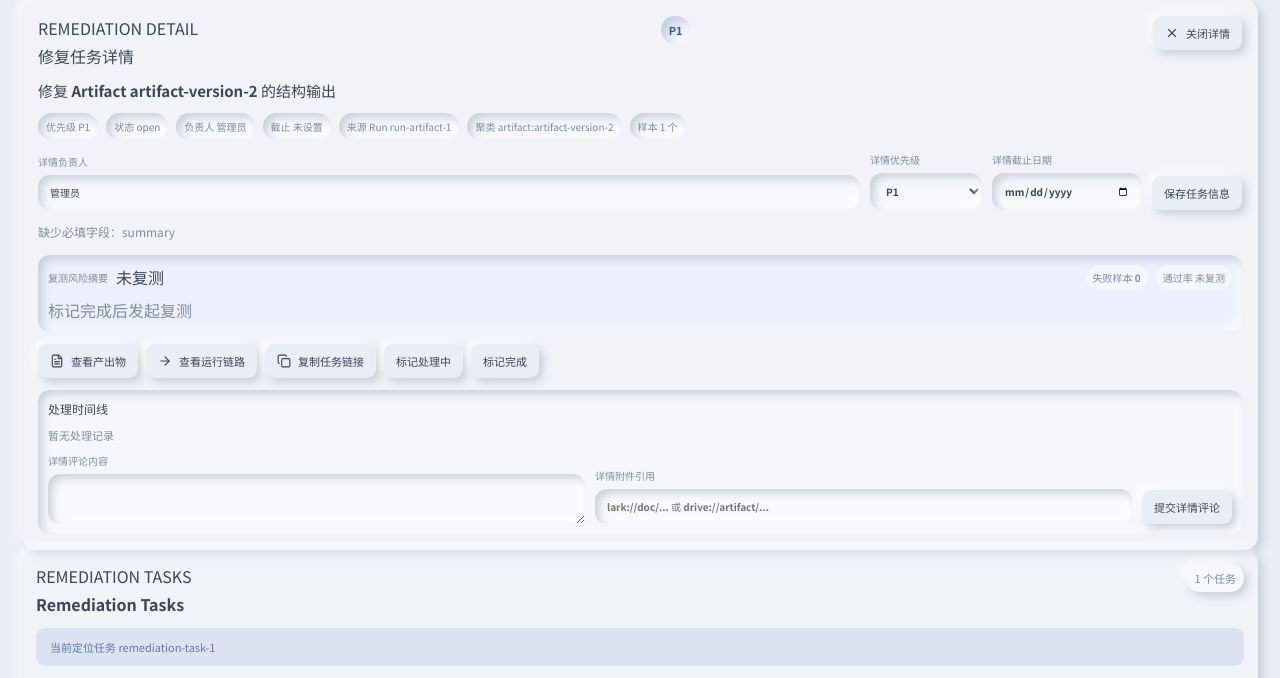
Test: QualityOperations page › shows an error when copying the remediation task detail link fails
(page scrolled)
What coordinates should you click on to do the following:
click the button "复制任务链接"
I would click on:
 (320, 361)
Its box is [265,344,376,378].
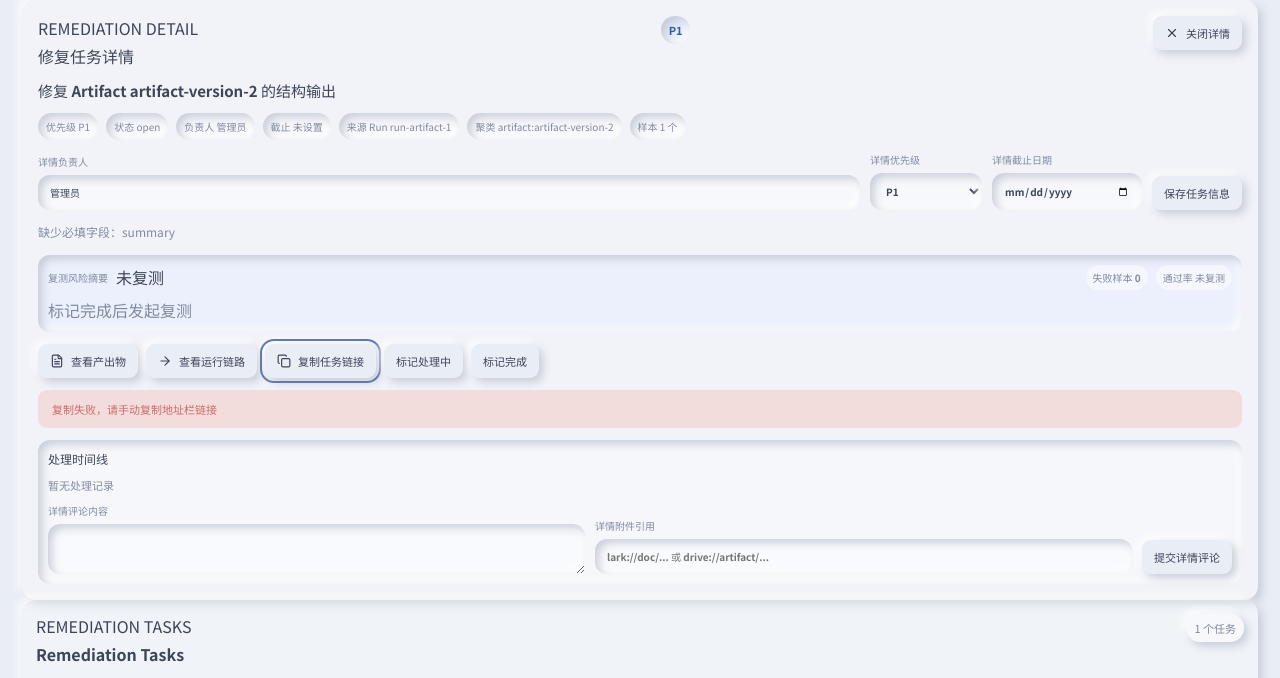
Now the message "复制失败，请手动复制地址栏链接" is shown, box [38,390,1242,428]
